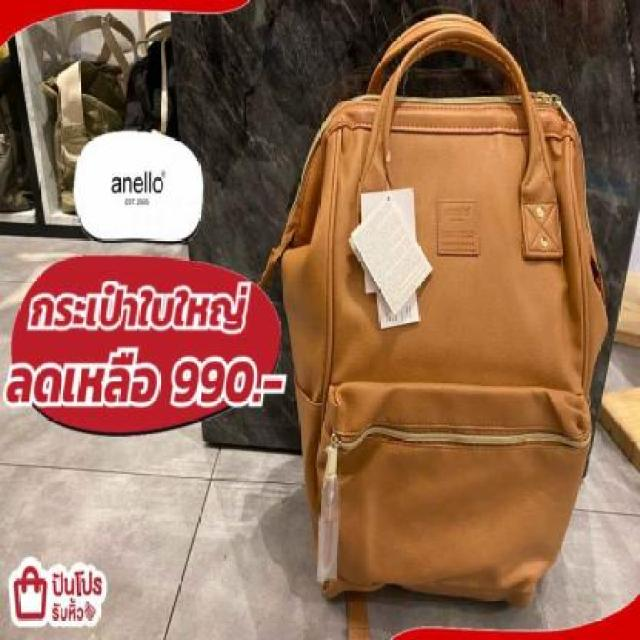Bag: (248, 0, 626, 640)
